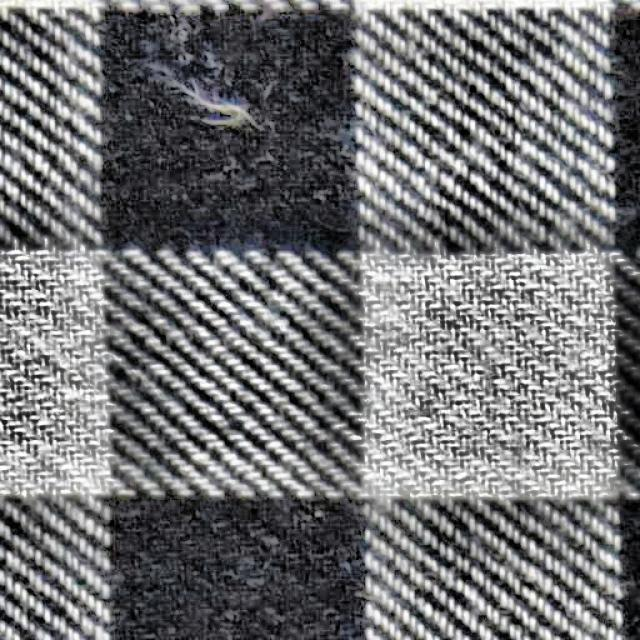Stitch: (120, 0, 279, 189)
